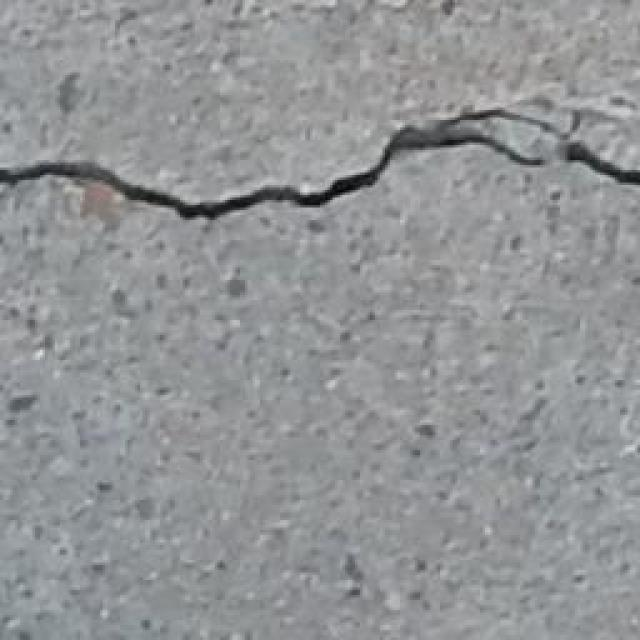concrete-crack: (1, 107, 639, 227)
